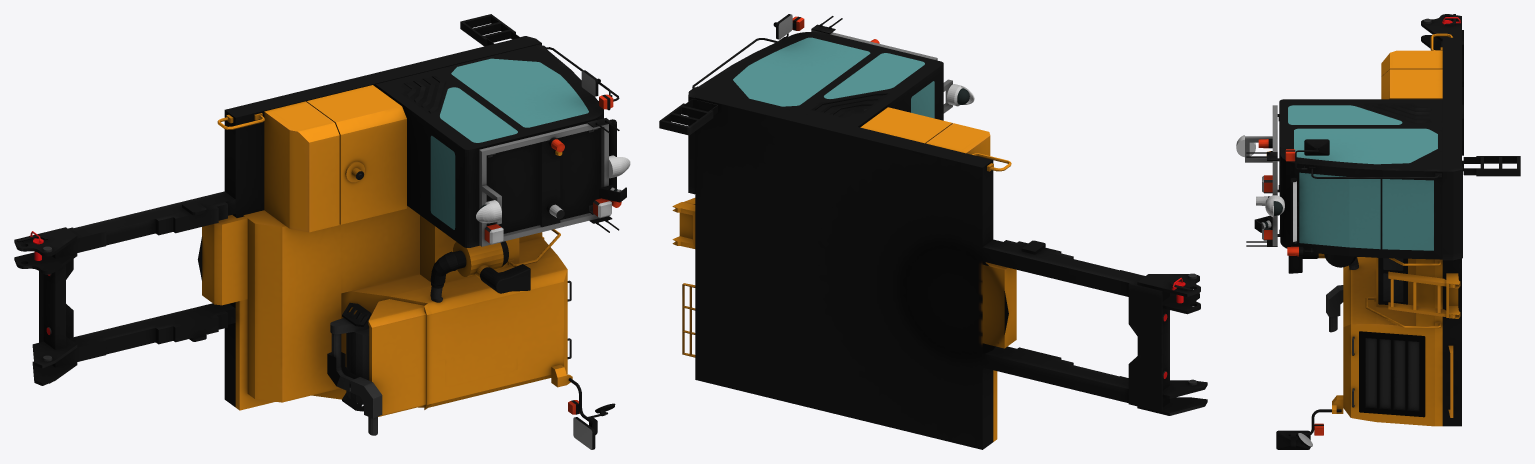
File: mst110cr-body.dae
3 views of the same model, side by side, from view 1: azimuth 30°, elevation 25°; view 2: azimuth 150°, elevation 25°; view 3: azimuth 270°, elevation 25° (orthographic). The views are drawn at different scales.
Parts seen in each view (by area): view 1: node; view 2: node; view 3: node.
Boxes of the visible parts, x1=… form: node: x1=14, y1=14, x2=630, y2=449; node: x1=659, y1=14, x2=1207, y2=449; node: x1=1236, y1=14, x2=1520, y2=449.
Bounding box in the file's own units: 5.69 × 3.6 × 2.92.
Materials: 1 (1 with a texture image).
